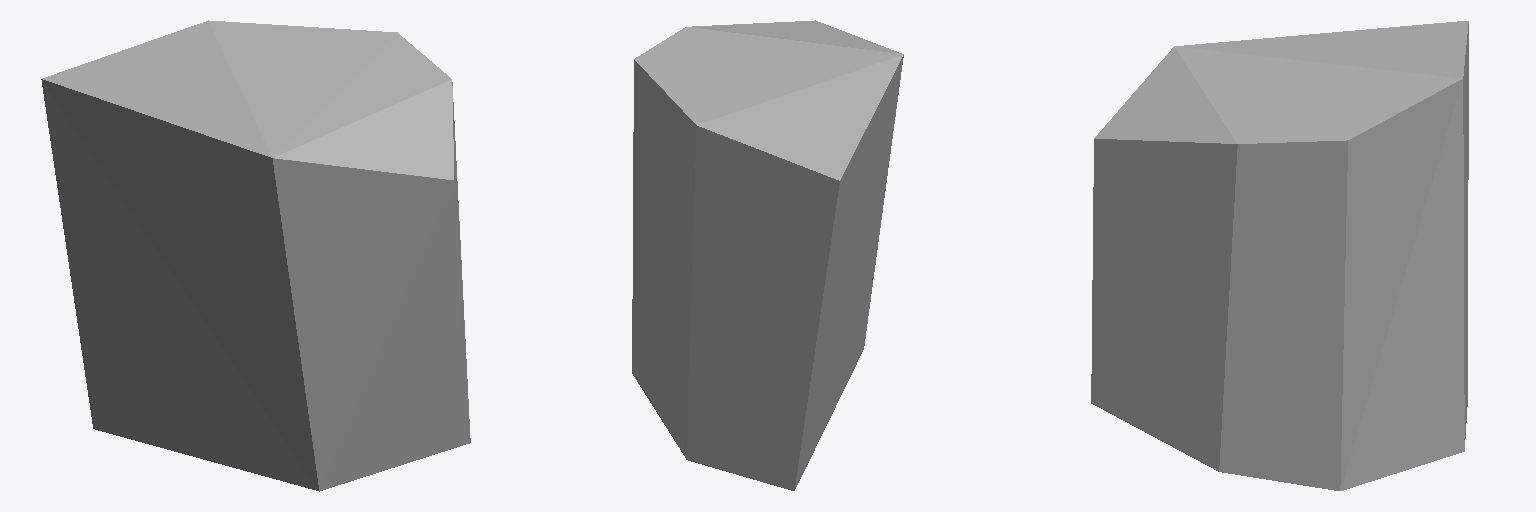
robot.urdf — root:
<?xml version='1.0' encoding='utf-8'?>
<robot name="root">
  <link name="link_001">
    <visual>
      <origin xyz="0 0 0" rpy="0 0 0" />
      <geometry>
        <mesh filename="b72acc71f6d5f87dcabcb8d7465d1fcf336c352a69cf803281ce948785733ad4_scale_278.stl" scale="1.0000E+00 1.0000E+00 1.0000E+00" />
      </geometry>
      <material name="">
        <color rgba="7.50E-01 7.50E-01 7.50E-01 1" />
      </material>
    </visual>
    <collision>
      <origin xyz="0 0 0" rpy="0 0 0" />
      <geometry>
        <mesh filename="b72acc71f6d5f87dcabcb8d7465d1fcf336c352a69cf803281ce948785733ad4_scale_278.stl" scale="1.0000E+00 1.0000E+00 1.0000E+00" />
      </geometry>
    </collision>
  </link>
</robot>

--- Facts derived from the render (not from the file) ---
Views: 3 orthographic renders of the robot side by side, from view 1: azimuth 30°, elevation 25°; view 2: azimuth 150°, elevation 25°; view 3: azimuth 270°, elevation 25°.
Model root with 1 links and 0 joints (none), rooted at link_001, posed all joints at 0.
Links seen in each view (by area): view 1: link_001; view 2: link_001; view 3: link_001.
Link boxes in pixels (<box>): link_001: <box>41,20,470,491</box>; link_001: <box>632,20,903,490</box>; link_001: <box>1091,21,1468,490</box>.
Size in the robot's own frame: 0.0822 by 0.0921 by 0.1002 metres.
1 mesh visuals loaded from 1 distinct referenced files (1 binary STL).
